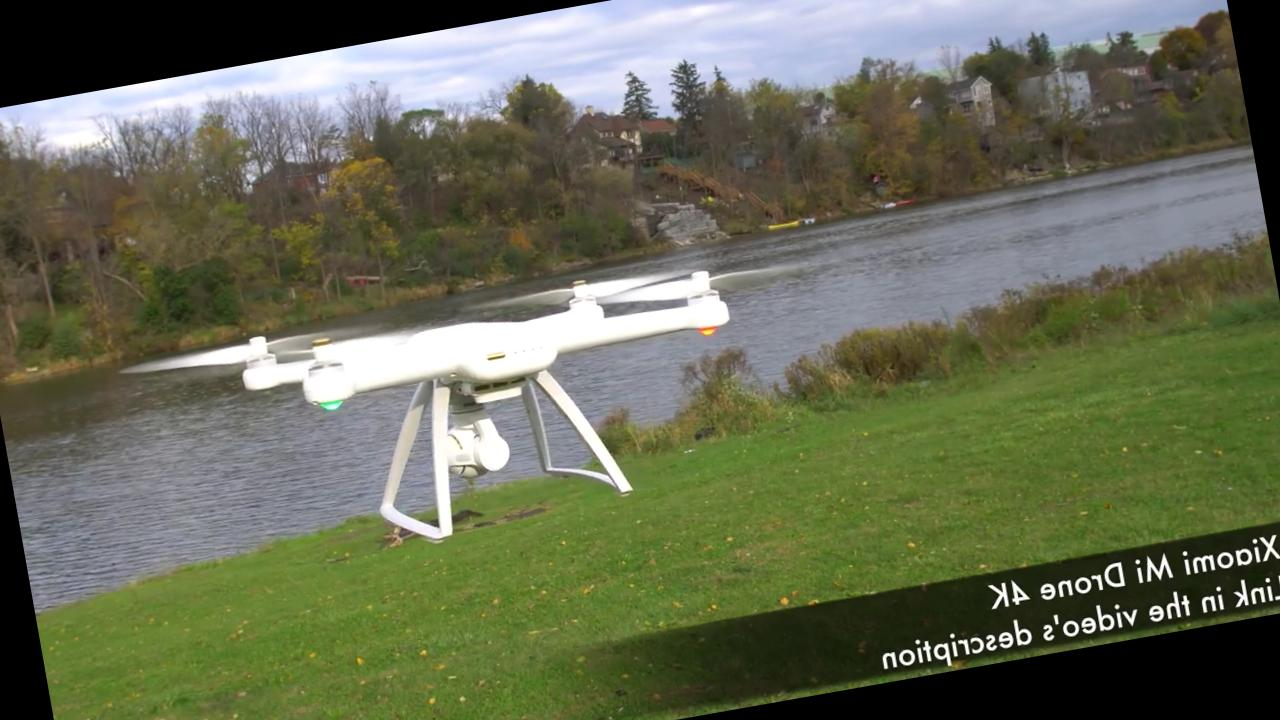drone: (112, 217, 825, 478)
